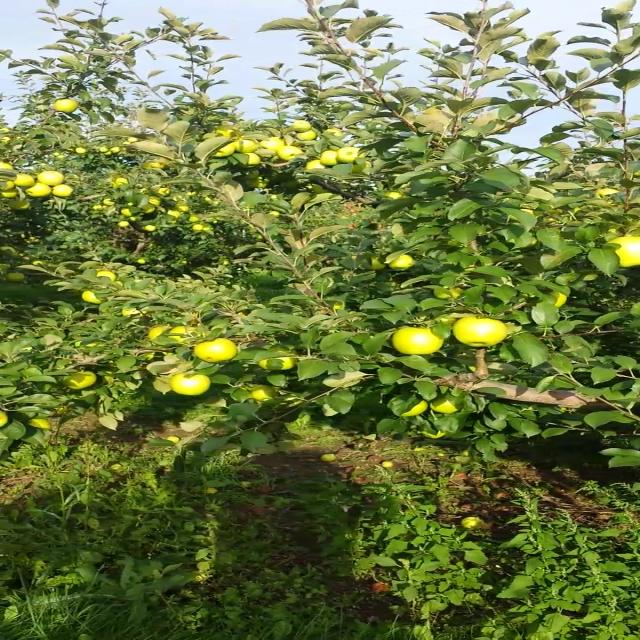apple: (454, 317, 508, 347), (392, 326, 445, 356), (193, 338, 237, 362), (169, 371, 211, 395), (608, 237, 639, 267), (258, 350, 300, 370), (430, 394, 463, 414), (61, 370, 97, 388), (398, 400, 430, 418), (168, 326, 200, 342), (36, 171, 66, 186), (276, 146, 304, 162), (338, 148, 366, 164), (388, 253, 414, 270), (209, 142, 235, 158), (22, 183, 51, 197), (251, 386, 280, 400), (259, 137, 287, 151), (234, 138, 260, 153), (54, 99, 80, 113), (146, 326, 172, 340), (27, 418, 52, 432), (241, 153, 262, 169), (120, 306, 148, 318), (217, 125, 239, 139), (320, 150, 339, 166), (294, 129, 319, 141), (50, 185, 74, 197), (82, 290, 102, 304), (368, 256, 388, 270), (9, 198, 32, 210), (245, 176, 268, 188), (13, 175, 35, 187), (555, 292, 569, 310), (292, 119, 313, 130), (304, 160, 326, 170), (420, 431, 446, 439), (96, 272, 116, 282), (2, 188, 18, 200), (1, 409, 11, 428), (6, 272, 25, 282), (147, 195, 161, 206), (112, 177, 129, 186), (384, 191, 402, 199), (166, 209, 180, 219), (173, 203, 190, 211), (3, 180, 17, 189), (120, 207, 132, 217), (0, 162, 14, 170), (116, 220, 130, 228), (141, 204, 155, 212), (151, 161, 167, 168), (102, 197, 116, 205), (327, 129, 343, 135), (159, 188, 171, 196), (191, 224, 206, 230), (142, 225, 156, 231), (109, 146, 120, 152), (97, 146, 108, 152), (136, 258, 147, 264), (442, 318, 457, 322), (189, 216, 199, 222), (76, 147, 86, 153), (128, 137, 138, 142), (103, 151, 111, 155)
